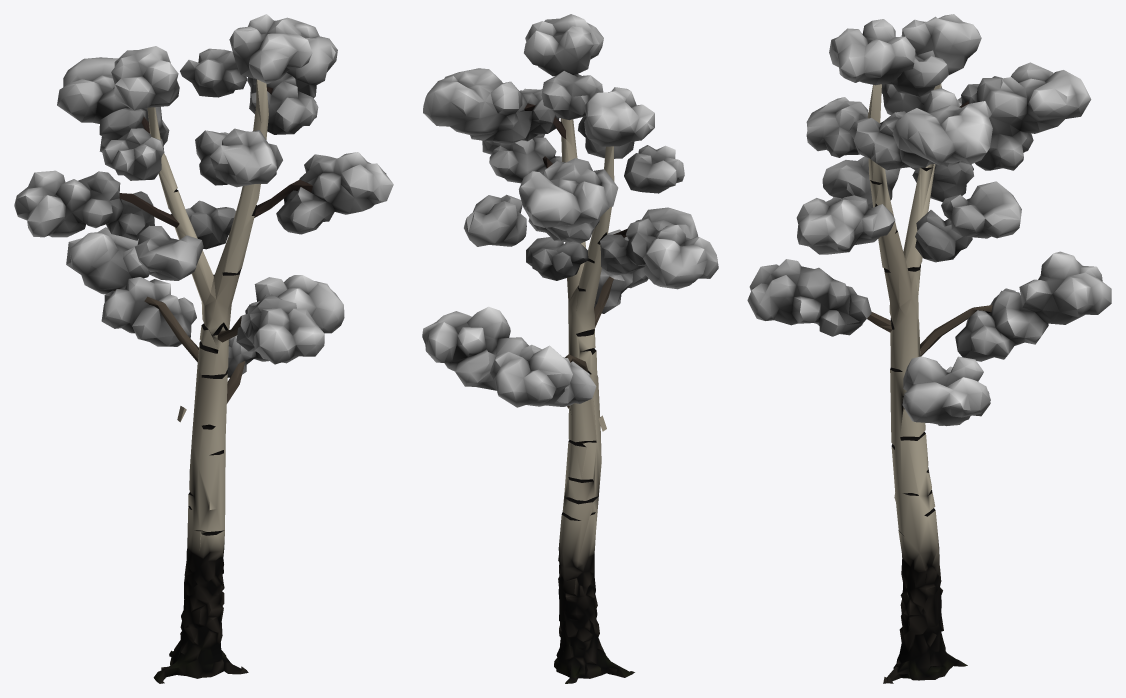
Rendered from birch_a.glb.
3 views of the same model, side by side, from view 1: azimuth 30°, elevation 25°; view 2: azimuth 150°, elevation 25°; view 3: azimuth 270°, elevation 25° (orthographic). The views are drawn at different scales.
Visible parts, largest first — view 1: birch_a_LOD0; view 2: birch_a_LOD0; view 3: birch_a_LOD0.
Part boxes in pixels (x1,y1,x2,y2): birch_a_LOD0: (14, 14, 393, 683); birch_a_LOD0: (422, 14, 718, 683); birch_a_LOD0: (747, 14, 1111, 683).
Size of what is drawn, in the model's own units: 4.44 by 9.01 by 4.51.
